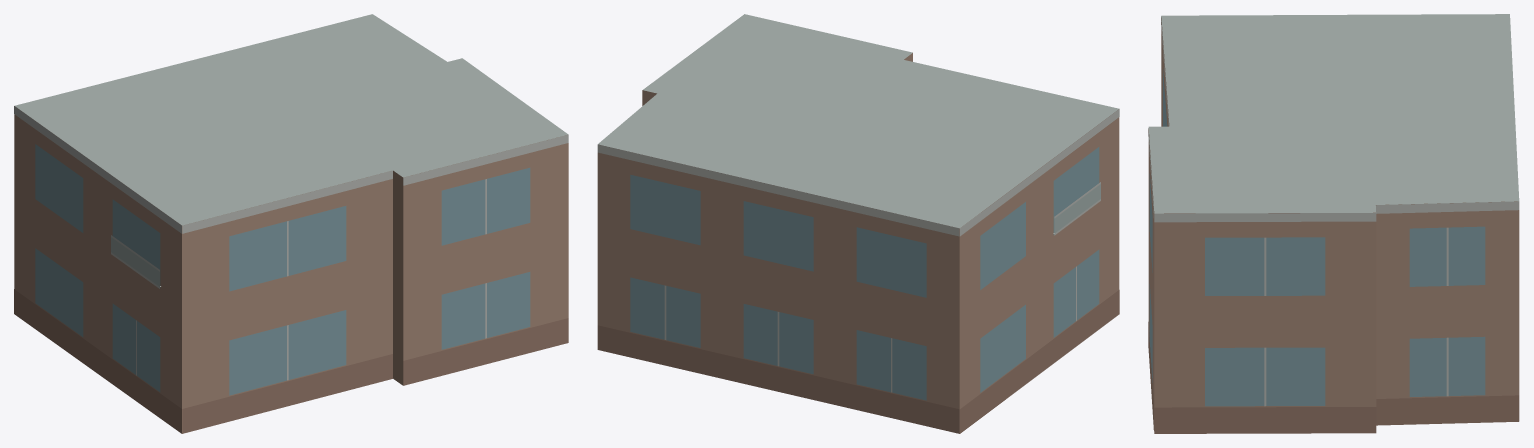
Rendered from survey-upis-33009531.glb.
3 renders of one model, left to right at view 1: azimuth 30°, elevation 25°; view 2: azimuth 150°, elevation 25°; view 3: azimuth 270°, elevation 25°, orthographic. The views are drawn at different scales.
Parts seen in each view (by area): view 1: survey-upis-33009531.tmp; view 2: survey-upis-33009531.tmp; view 3: survey-upis-33009531.tmp.
Part boxes in pixels (x1,y1,x2,y2): survey-upis-33009531.tmp: [14, 14, 568, 433]; survey-upis-33009531.tmp: [597, 14, 1119, 433]; survey-upis-33009531.tmp: [1148, 14, 1519, 433].
Bounding box in the file's own units: 11.85 × 6.1 × 9.31.
